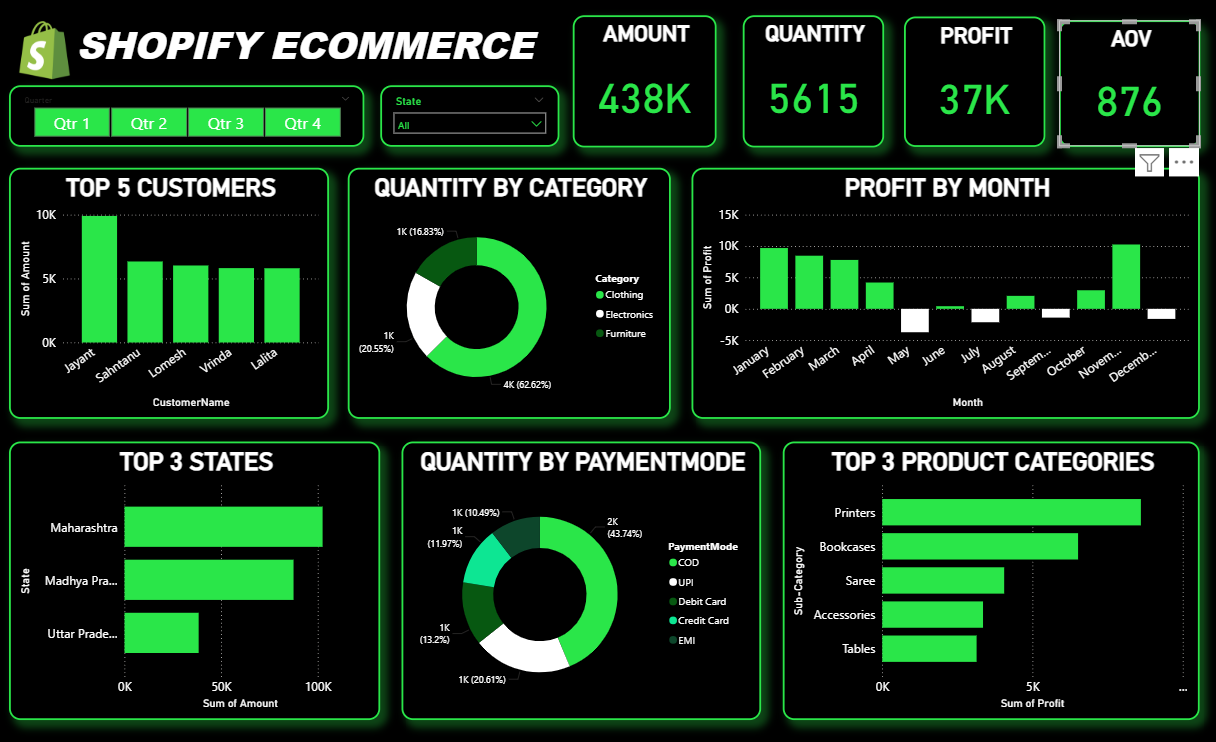

Layout of this report page (visuals, bound fields, positions):
{"tool":"powerbi","page":{"name":"Page 1","canvas":[1600,979],"ordinal":0},"visuals":[{"type":"image","box":[0,0,122.1,122.1],"z":0},{"type":"textbox","box":[97.4,20.6,625.7,82.3],"z":1000},{"type":"card","title":"AMOUNT","fields":{"Values":["Sum(Products.Amount)"]},"box":[753,20.6,188.7,173.2],"z":2000},{"type":"card","title":"QUANTITY","fields":{"Values":["Sum(Products.Quantity)"]},"box":[976,20.6,185.2,173.2],"z":3000},{"type":"card","title":"PROFIT","fields":{"Values":["Sum(Products.Profit)"]},"box":[1187,22.3,185.2,171.5],"z":4000},{"type":"card","title":"AOV","fields":{"Values":["Products.AOV"]},"box":[1391.1,27.4,185.2,166.4],"z":5000},{"type":"slicer","fields":{"Values":["Orders.Order Date.Variation.Date Hierarchy.Quarter"]},"box":[13.7,113.2,466.6,80.6],"z":6000},{"type":"slicer","fields":{"Values":["Orders.State"]},"box":[500.9,113.2,235,80.6],"z":7000},{"type":"columnChart","title":"TOP 5 CUSTOMERS","fields":{"Category":["Orders.CustomerName"],"Y":["Sum(Products.Amount)"]},"box":[13.7,221.3,420.2,329.3],"z":8000},{"type":"donutChart","title":"QUANTITY BY CATEGORY","fields":{"Category":["Products.Category"],"Y":["Sum(Products.Quantity)"]},"box":[458,221.3,423.7,329.3],"z":9000},{"type":"columnChart","title":"PROFIT BY MONTH","fields":{"Category":["Orders.Order Date.Variation.Date Hierarchy.Month"],"Y":["Sum(Products.Profit)"]},"box":[909.1,221.3,667.2,329.3],"z":10000},{"type":"barChart","title":"TOP 3 STATES","fields":{"Category":["Orders.State"],"Y":["Sum(Products.Amount)"]},"box":[13.7,581.5,487.1,365.4],"z":11000},{"type":"donutChart","title":"QUANTITY BY PAYMENTMODE","fields":{"Category":["Products.PaymentMode"],"Y":["Sum(Products.Quantity)"]},"box":[528.3,581.5,471.7,365.4],"z":12000},{"type":"barChart","title":"TOP 3 PRODUCT CATEGORIES","fields":{"Category":["Products.Sub-Category"],"Y":["Sum(Products.Profit)"]},"box":[1029.2,581.5,547.2,365.4],"z":13000}]}

Visuals, with their boxes in screenshot pixels (x1, y1, x2, y2), scaled from the page's 1600x979 canvas onto the 1216x742 screenshot:
image: (0, 0, 93, 93)
textbox: (74, 16, 550, 78)
"AMOUNT" card: (572, 16, 716, 147)
"QUANTITY" card: (742, 16, 883, 147)
"PROFIT" card: (902, 17, 1043, 147)
"AOV" card: (1057, 21, 1198, 147)
slicer - Orders.Order Date.Variation.Date Hierarchy.Quarter: (10, 86, 365, 147)
slicer - Orders.State: (381, 86, 559, 147)
"TOP 5 CUSTOMERS" columnChart: (10, 168, 330, 417)
"QUANTITY BY CATEGORY" donutChart: (348, 168, 670, 417)
"PROFIT BY MONTH" columnChart: (691, 168, 1198, 417)
"TOP 3 STATES" barChart: (10, 441, 381, 718)
"QUANTITY BY PAYMENTMODE" donutChart: (402, 441, 760, 718)
"TOP 3 PRODUCT CATEGORIES" barChart: (782, 441, 1198, 718)
